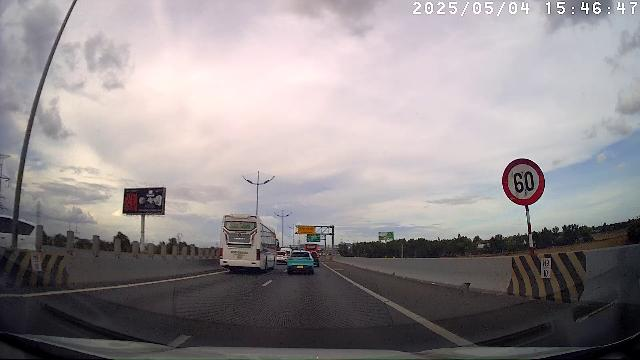127-toc-do-toi-da-60: (501, 156, 546, 206)
